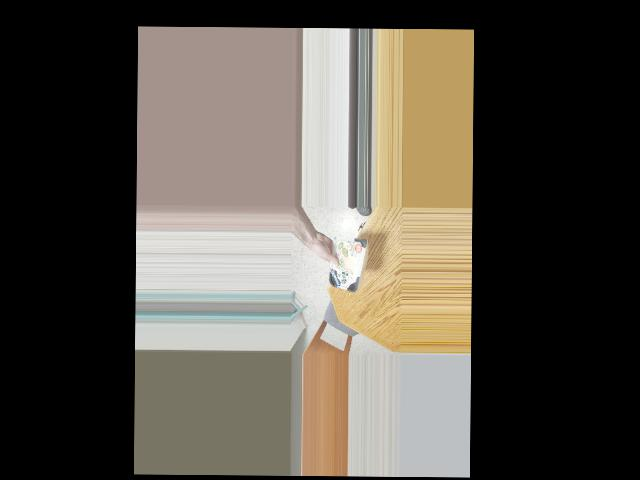cheese: (323, 246, 367, 286)
